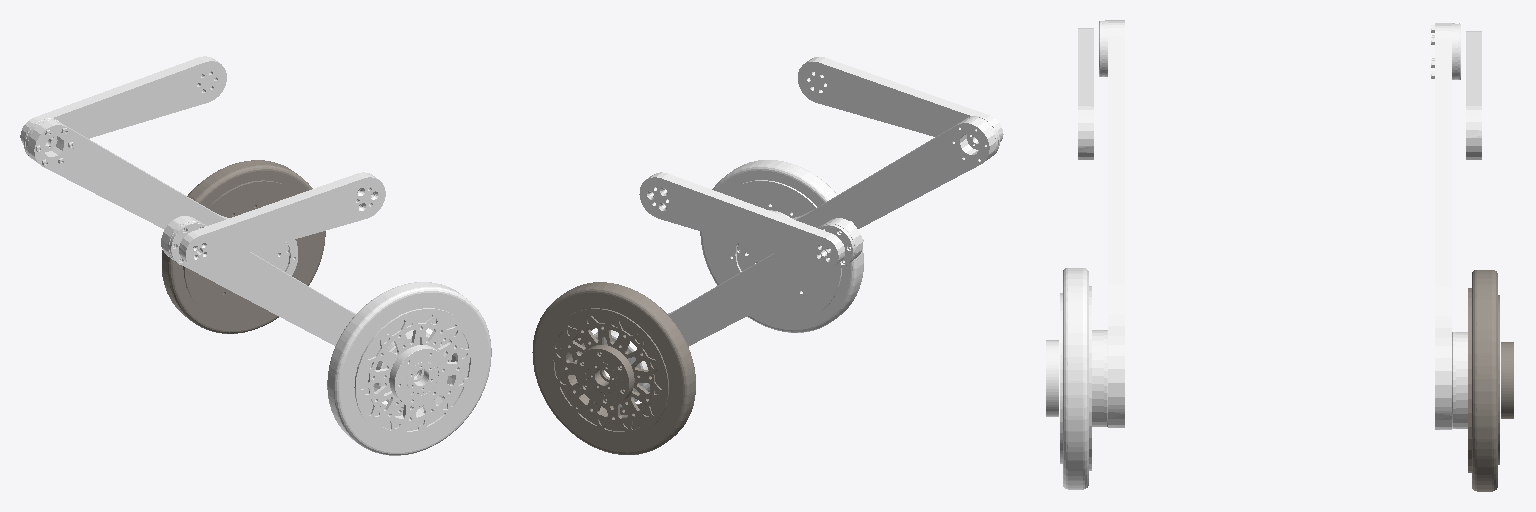
The robot description file, URDF, robot "robot":
<?xml version="1.0" encoding="utf-8"?>
<!-- This URDF was automatically created by SolidWorks to URDF Exporter! Originally created by [author] ([email redacted]) 
     Commit Version: 1.6.0-4-g7f85cfe  Build Version: 1.6.7995.38578
     For more information, please see http://wiki.ros.org/sw_urdf_exporter -->
<robot
  name="robot">
  <link
    name="base_link">
    <inertial>
      <origin
        xyz="-0.01335154665485 0.00892142749774678 0.11300747698796"
        rpy="0 0 0" />
      <mass
        value="3.52092262700772" />
      <inertia
        ixx="0.00570740031143096"
        ixy="1.47483409796583E-05"
        ixz="2.44091919939066E-05"
        iyy="0.00476988219819226"
        iyz="3.83666114443884E-06"
        izz="0.00749056238282918" />
    </inertial>
    <visual>
      <origin
        xyz="0 0 0"
        rpy="0 0 0" />
      <geometry>
        <mesh
          filename="../meshes/base_link.STL" />
      </geometry>
      <material
        name="">
        <color
          rgba="0.752941176470588 0.752941176470588 0.752941176470588 1" />
      </material>
    </visual>
    <collision>
      <origin
        xyz="0 0 0"
        rpy="0 0 0" />
      <geometry>
        <mesh
          filename="../meshes/base_link.STL" />
      </geometry>
    </collision>
  </link>
  <link
    name="lf0_link">
    <inertial>
      <origin
        xyz="-0.0980096095095807 0.00841100702326447 0.0124869935998485"
        rpy="0 0 0" />
      <mass
        value="0.164170599136832" />
      <inertia
        ixx="3.62794386204001E-05"
        ixy="6.84539648158674E-05"
        ixz="8.5123772375522E-08"
        iyy="0.000828067518372867"
        iyz="-7.30516783895404E-09"
        izz="0.000858207700007484" />
    </inertial>
    <visual>
      <origin
        xyz="0 0 0"
        rpy="0 0 0" />
      <geometry>
        <mesh
          filename="../meshes/lf0_link.STL" />
      </geometry>
      <material
        name="">
        <color
          rgba="1 1 1 1" />
      </material>
    </visual>
    <collision>
      <origin
        xyz="0 0 0"
        rpy="0 0 0" />
      <geometry>
        <mesh
          filename="../meshes/lf0_link.STL" />
      </geometry>
    </collision>
  </link>
  <joint
    name="lf0_Joint"
    type="revolute">
    <origin
      xyz="-0.06 0.1652 0.054"
      rpy="-1.5708 0 0" />
    <parent
      link="base_link" />
    <child
      link="lf0_link" />
    <axis
      xyz="0 0 1" />
    <limit
      lower="-1.57"
      upper="1.57"
      effort="40"
      velocity="20" />
  </joint>
  <link
    name="lf1_link">
    <inertial>
      <origin
        xyz="0.194963212214862 0.147857969999811 -0.00312746570828953"
        rpy="0 0 0" />
      <mass
        value="0.511926933028581" />
      <inertia
        ixx="0.00132794087673205"
        ixy="-0.00145592745886407"
        ixz="3.28027257432351E-08"
        iyy="0.00214369333902659"
        iyz="3.08784823496333E-09"
        izz="0.00341459964713739" />
    </inertial>
    <visual>
      <origin
        xyz="0 0 0"
        rpy="0 0 0" />
      <geometry>
        <mesh
          filename="../meshes/lf1_link.STL" />
      </geometry>
      <material
        name="">
        <color
          rgba="1 1 1 1" />
      </material>
    </visual>
    <collision>
      <origin
        xyz="0 0 0"
        rpy="0 0 0" />
      <geometry>
        <mesh
          filename="../meshes/lf1_link.STL" />
      </geometry>
    </collision>
  </link>
  <joint
    name="lf1_Joint"
    type="revolute">
    <origin
      xyz="-0.214212634573279 0.0183833399896522 0"
      rpy="0 0 0" />
    <parent
      link="lf0_link" />
    <child
      link="lf1_link" />
    <axis
      xyz="0 0 1" />
    <limit
      lower="-1.57"
      upper="1.57"
      effort="40"
      velocity="20" />
  </joint>
  <link
    name="l_wheel_link">
    <inertial>
      <origin
        xyz="5.65211460423418E-05 -3.30748682963178E-05 -0.008329927215875"
        rpy="0 0 0" />
      <mass
        value="0.686732386762164" />
      <inertia
        ixx="0.00207457779480549"
        ixy="-4.75520220674342E-08"
        ixz="7.98181086586115E-11"
        iyy="0.0020747672023602"
        iyz="-3.12255212116825E-10"
        izz="0.00410058530831175" />
    </inertial>
    <visual>
      <origin
        xyz="0 0 0"
        rpy="0 0 0" />
      <geometry>
        <mesh
          filename="../meshes/l_wheel_link.STL" />
      </geometry>
      <material
        name="">
        <color
          rgba="0.647058823529412 0.619607843137255 0.588235294117647 1" />
      </material>
    </visual>
    <collision>
      <origin
        xyz="0 0 0"
        rpy="0 0 0" />
      <geometry>
        <mesh
          filename="../meshes/l_wheel_link.STL" />
      </geometry>
    </collision>
  </link>
  <joint
    name="l_wheel_Joint"
    type="revolute">
    <origin
      xyz="0.270854027397212 0.20547763286506 0.0311999999999998"
      rpy="0 0 0" />
    <parent
      link="lf1_link" />
    <child
      link="l_wheel_link" />
    <axis
      xyz="0 0 1" />
    <limit
      effort="40"
      velocity="1000" />
  </joint>
  <link
    name="rf0_link">
    <inertial>
      <origin
        xyz="-0.0981141184565684 0.00708860739894429 -0.0154869935998477"
        rpy="0 0 0" />
      <mass
        value="0.164170599136832" />
      <inertia
        ixx="3.45774150718751E-05"
        ixy="5.77529779117258E-05"
        ixz="-8.5214540984021E-08"
        iyy="0.000829769541921391"
        iyz="6.15663102537491E-09"
        izz="0.000858207700007482" />
    </inertial>
    <visual>
      <origin
        xyz="0 0 0"
        rpy="0 0 0" />
      <geometry>
        <mesh
          filename="../meshes/rf0_link.STL" />
      </geometry>
      <material
        name="">
        <color
          rgba="1 1 1 1" />
      </material>
    </visual>
    <collision>
      <origin
        xyz="0 0 0"
        rpy="0 0 0" />
      <geometry>
        <mesh
          filename="../meshes/rf0_link.STL" />
      </geometry>
    </collision>
  </link>
  <joint
    name="rf0_Joint"
    type="revolute">
    <origin
      xyz="-0.0599999999999935 -0.162199999999999 0.0539999999999952"
      rpy="-1.5707963267949 0 0" />
    <parent
      link="base_link" />
    <child
      link="rf0_link" />
    <axis
      xyz="0 0 1" />
    <limit
      lower="-1.57"
      upper="1.57"
      effort="40"
      velocity="20" />
  </joint>
  <link
    name="rf1_link">
    <inertial>
      <origin
        xyz="0.19423695362413 0.149409474728614 0.00309444187083326"
        rpy="0 0 0" />
      <mass
        value="0.511165303071765" />
      <inertia
        ixx="0.00134801686303463"
        ixy="-0.00146140408892987"
        ixz="-1.16103717352114E-08"
        iyy="0.00212360921541661"
        iyz="-3.08342810992287E-08"
        izz="0.00341459318481971" />
    </inertial>
    <visual>
      <origin
        xyz="0 0 0"
        rpy="0 0 0" />
      <geometry>
        <mesh
          filename="../meshes/rf1_link.STL" />
      </geometry>
      <material
        name="">
        <color
          rgba="1 1 1 1" />
      </material>
    </visual>
    <collision>
      <origin
        xyz="0 0 0"
        rpy="0 0 0" />
      <geometry>
        <mesh
          filename="../meshes/rf1_link.STL" />
      </geometry>
    </collision>
  </link>
  <joint
    name="rf1_Joint"
    type="revolute">
    <origin
      xyz="-0.214441052347645 0.0154930651594395 -0.00300000000000009"
      rpy="0 0 0" />
    <parent
      link="rf0_link" />
    <child
      link="rf1_link" />
    <axis
      xyz="0 0 1" />
    <limit
      lower="-1.57"
      upper="1.57"
      effort="40"
      velocity="20" />
  </joint>
  <link
    name="r_wheel_link">
    <inertial>
      <origin
        xyz="-1.70364747832594E-05 6.32316435442704E-05 0.00868742485259935"
        rpy="0 0 0" />
      <mass
        value="0.686732386762166" />
      <inertia
        ixx="0.00207463952664088"
        ixy="-1.00851300014359E-07"
        ixz="1.96165277374569E-10"
        iyy="0.00207470547052481"
        iyz="-2.58948401722452E-10"
        izz="0.00410058530831175" />
    </inertial>
    <visual>
      <origin
        xyz="0 0 0"
        rpy="0 0 0" />
      <geometry>
        <mesh
          filename="../meshes/r_wheel_link.STL" />
      </geometry>
      <material
        name="">
        <color
          rgba="1 1 1 1" />
      </material>
    </visual>
    <collision>
      <origin
        xyz="0 0 0"
        rpy="0 0 0" />
      <geometry>
        <mesh
          filename="../meshes/r_wheel_link.STL" />
      </geometry>
    </collision>
  </link>
  <joint
    name="r_wheel_Joint"
    type="revolute">
    <origin
      xyz="0.269506210726971 0.207242283679531 -0.0312000000000002"
      rpy="0 0 0" />
    <parent
      link="rf1_link" />
    <child
      link="r_wheel_link" />
    <axis
      xyz="0 0 1" />
    <limit
      effort="40"
      velocity="1000" />
  </joint>
</robot>

--- Facts derived from the render (not from the file) ---
3 views of the same robot in one strip: view 1: azimuth 30°, elevation 25°; view 2: azimuth 150°, elevation 25°; view 3: azimuth 270°, elevation 25° (orthographic).
Model robot with 7 links and 6 joints (6 revolute), rooted at base_link, posed all joints at 0.
Links seen in each view (by area): view 1: r_wheel_link, l_wheel_link, lf1_link, rf0_link, rf1_link, lf0_link; view 2: l_wheel_link, r_wheel_link, rf1_link, lf0_link, lf1_link, rf0_link; view 3: lf1_link, rf1_link, l_wheel_link, r_wheel_link, rf0_link, lf0_link.
Link boxes in pixels (x1,y1,x2,y2): r_wheel_link: (327, 282, 491, 455); l_wheel_link: (162, 160, 325, 333); lf1_link: (24, 118, 297, 275); rf0_link: (179, 172, 385, 266); rf1_link: (161, 216, 447, 408); lf0_link: (20, 56, 226, 144); l_wheel_link: (532, 282, 695, 454); r_wheel_link: (700, 160, 863, 332); rf1_link: (728, 116, 999, 274); lf0_link: (639, 172, 844, 268); lf1_link: (577, 218, 863, 407); rf0_link: (798, 57, 1003, 141); lf1_link: (1431, 23, 1467, 429); rf1_link: (1092, 20, 1124, 427); l_wheel_link: (1468, 270, 1513, 491); r_wheel_link: (1046, 268, 1091, 489); rf0_link: (1078, 28, 1093, 159); lf0_link: (1466, 31, 1481, 159).
Size in the robot's own frame: 0.3987 by 0.4288 by 0.3508 metres.
6 mesh visuals loaded from 7 distinct referenced files (6 binary STL); not drawn: 1 (file found but could not be loaded).
